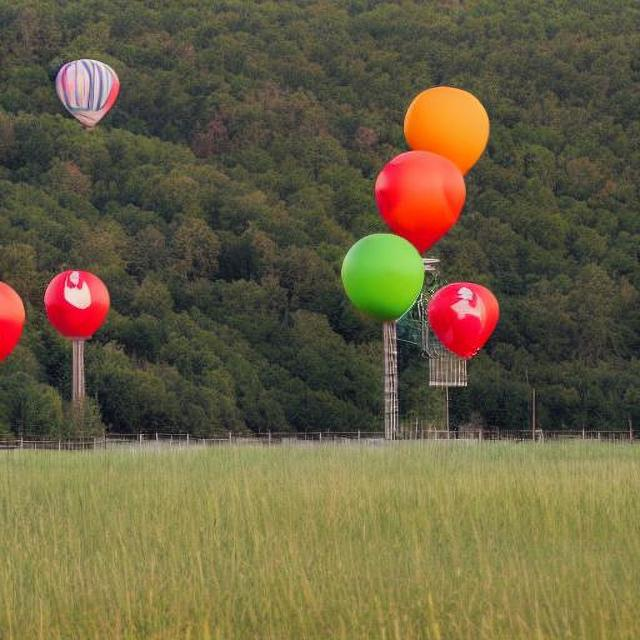balloon: (339, 85, 494, 346), (371, 84, 494, 248), (360, 136, 472, 269), (395, 82, 493, 180), (332, 230, 427, 326), (421, 279, 501, 358), (39, 267, 111, 341), (51, 57, 121, 127)
